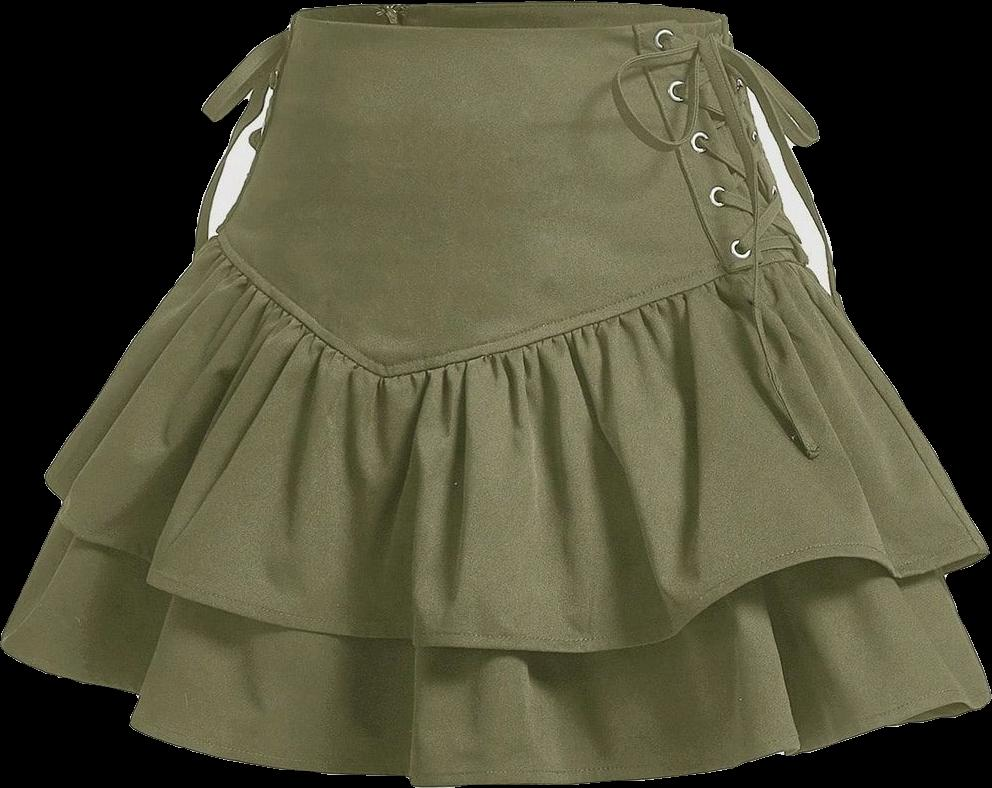Hemline: (42, 471, 986, 656), (0, 635, 991, 787)
Waistline: (218, 229, 801, 379), (291, 5, 726, 35)
